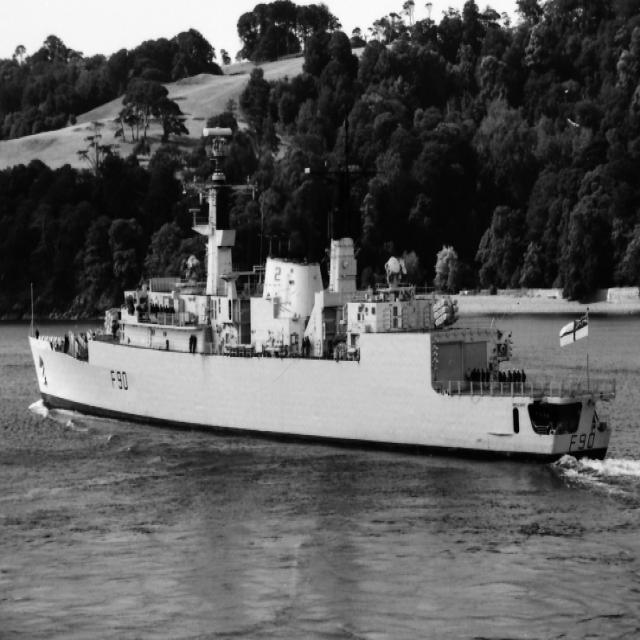Fragata: (24, 105, 617, 468)
